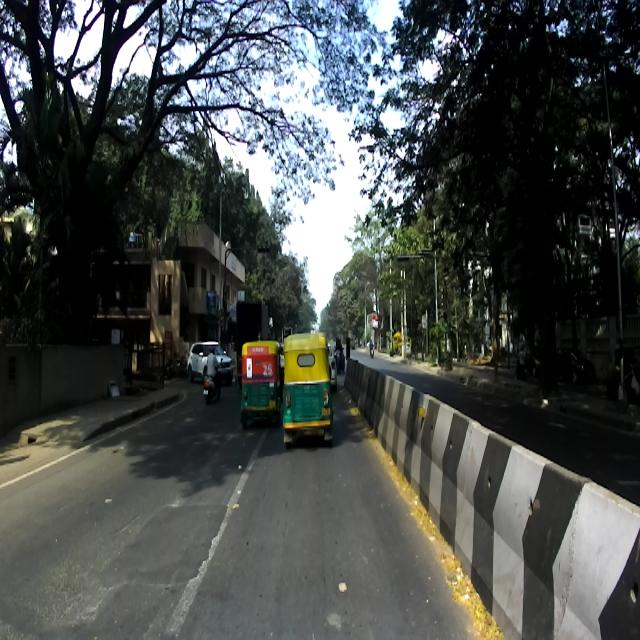auto ahead at: (280, 335, 332, 447), (240, 342, 282, 433)
